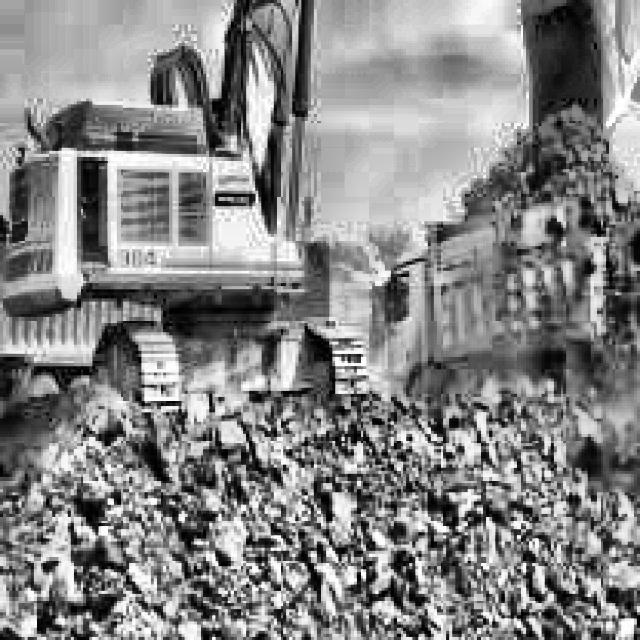dump_truck: (380, 208, 617, 389)
excavator: (0, 0, 640, 458)
